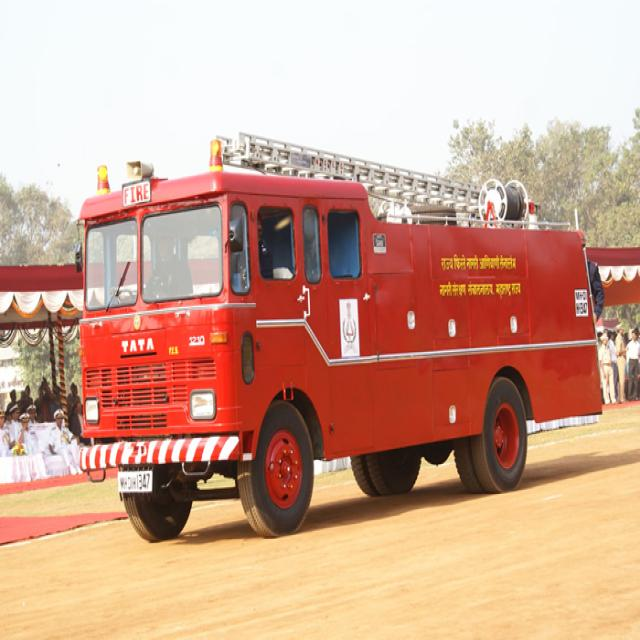emergency: (80, 134, 601, 541)
